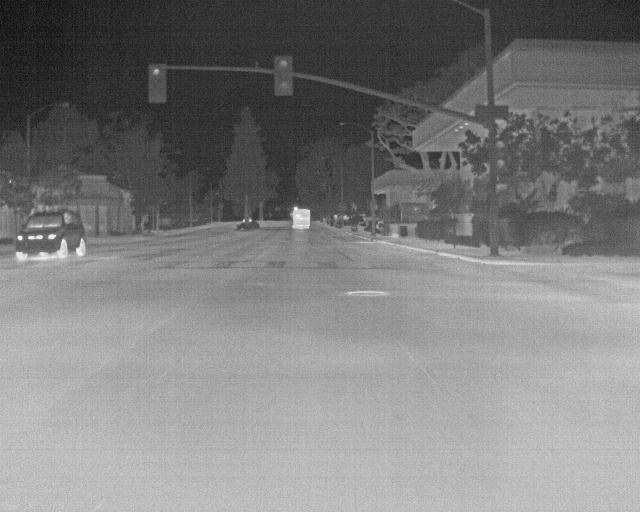car: (12, 209, 86, 263)
